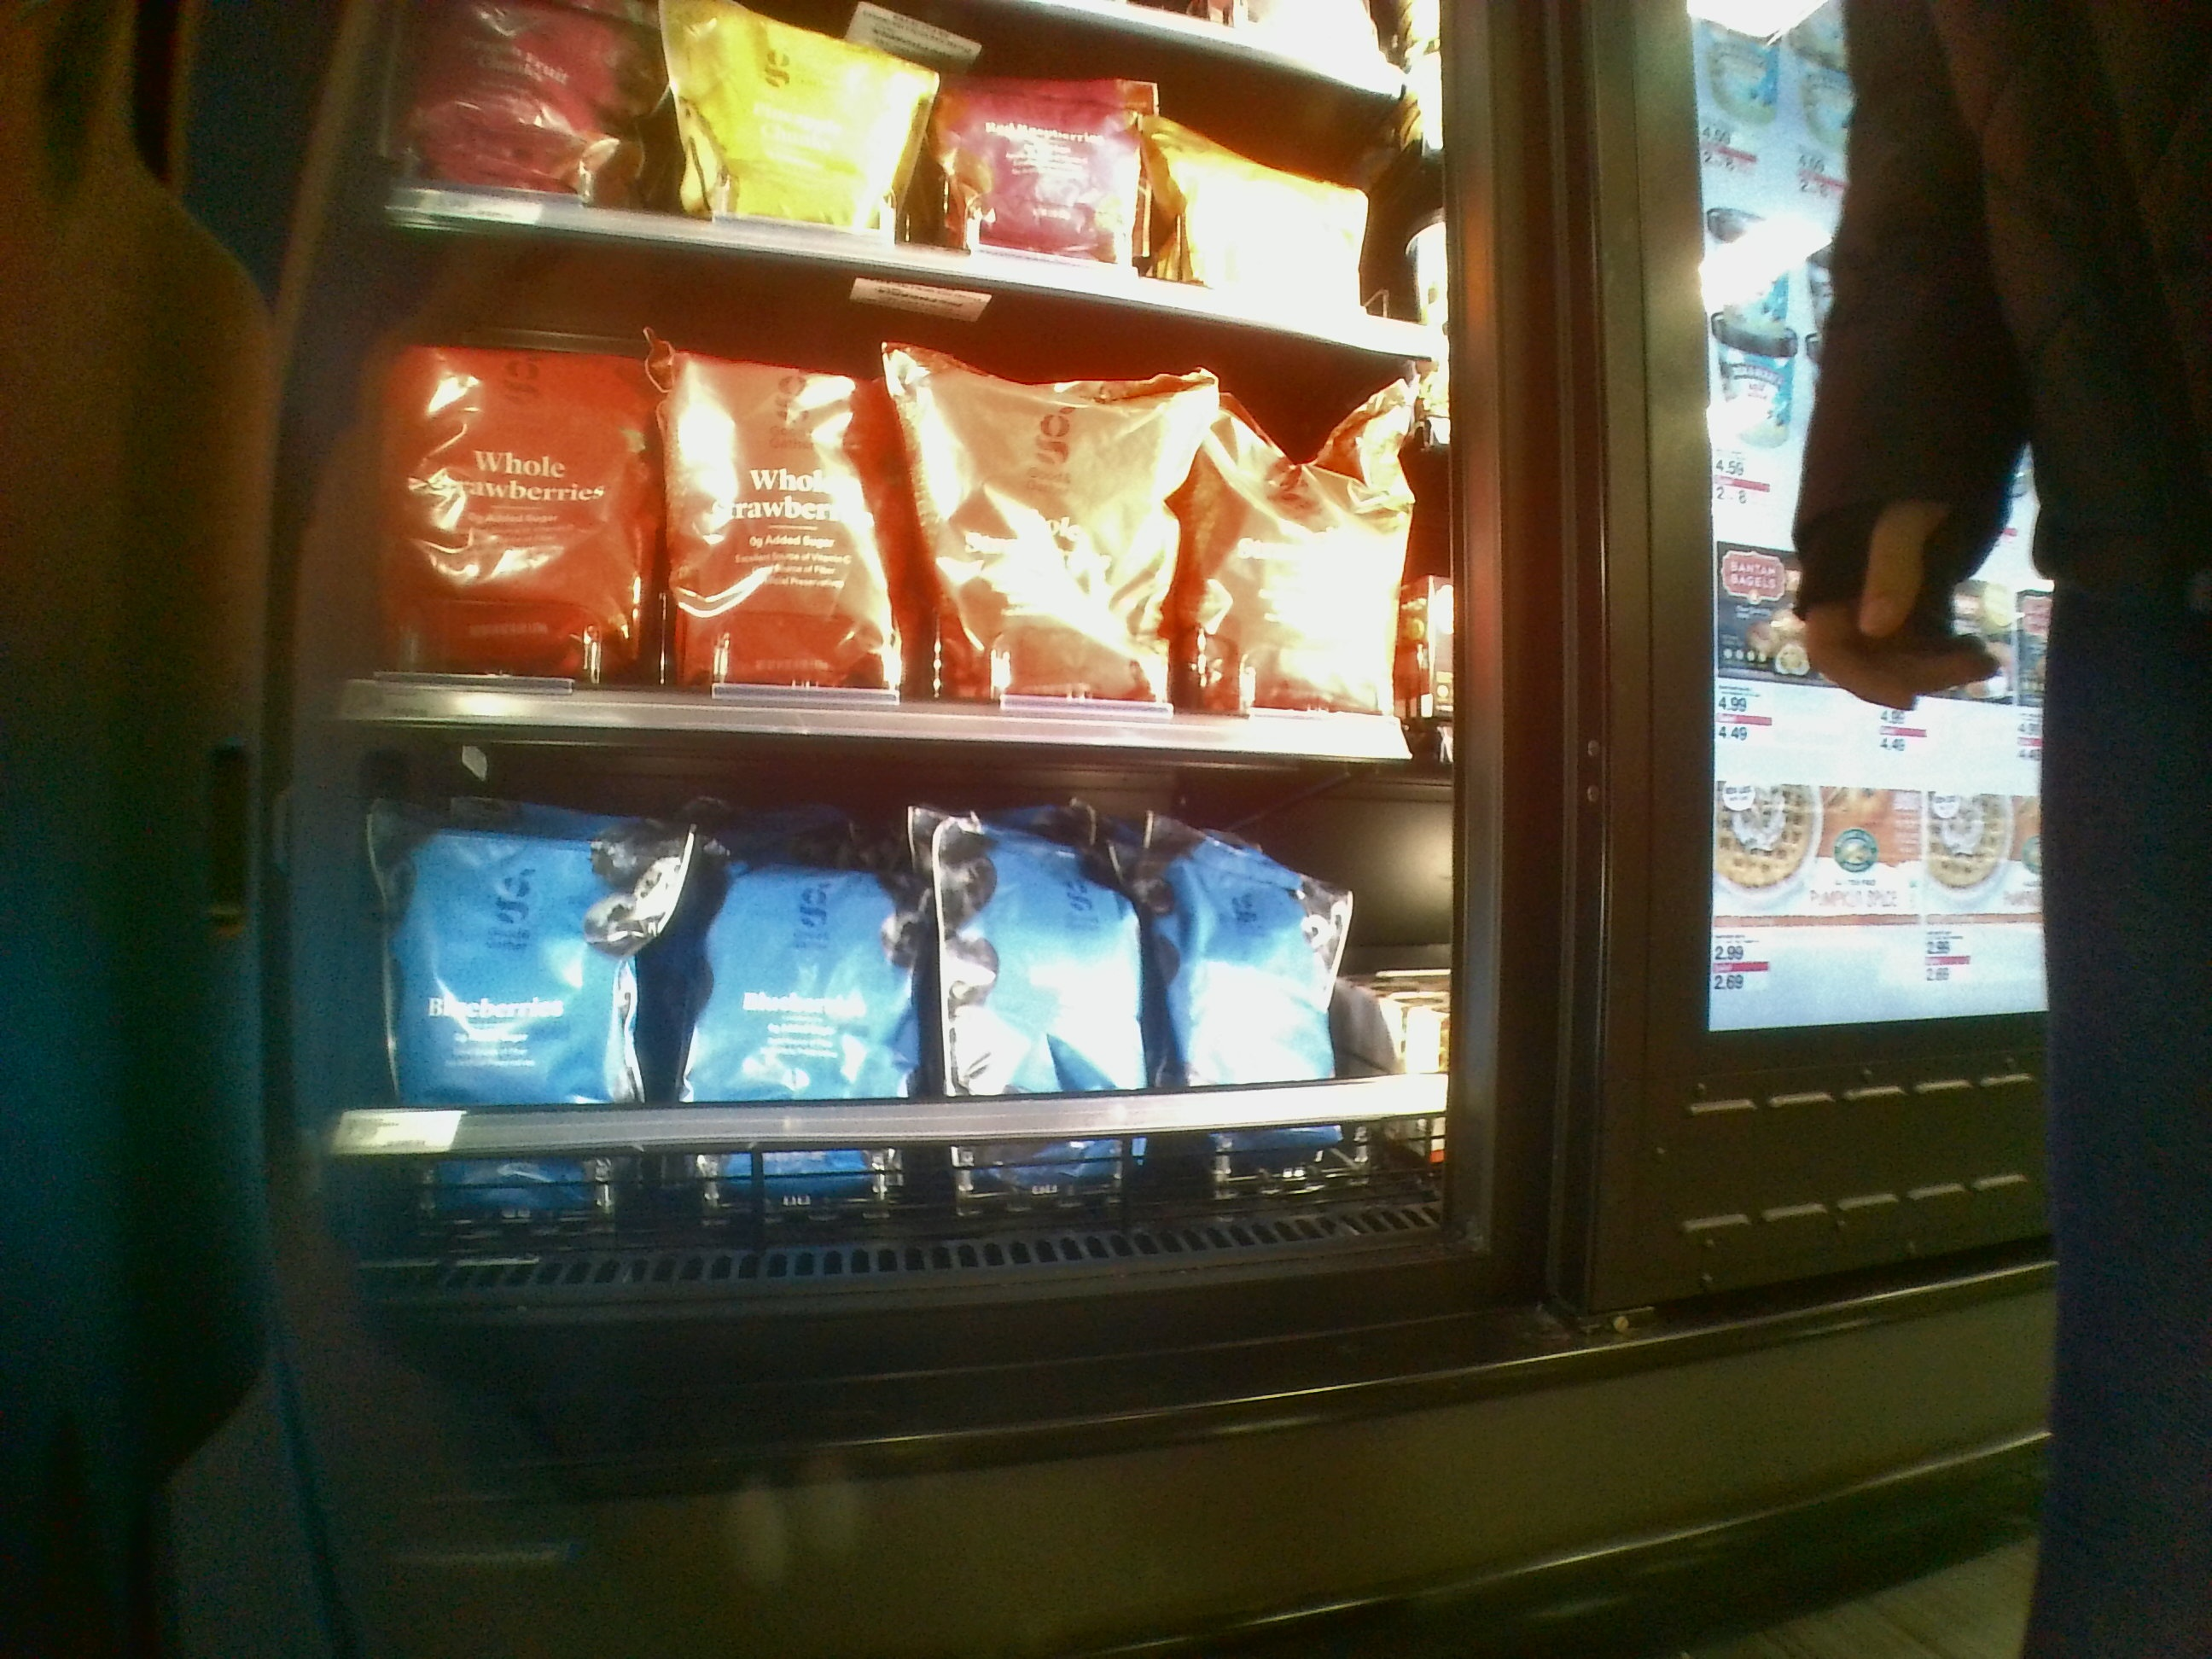shelf: (340, 714, 1442, 1249), (347, 321, 1440, 753)
